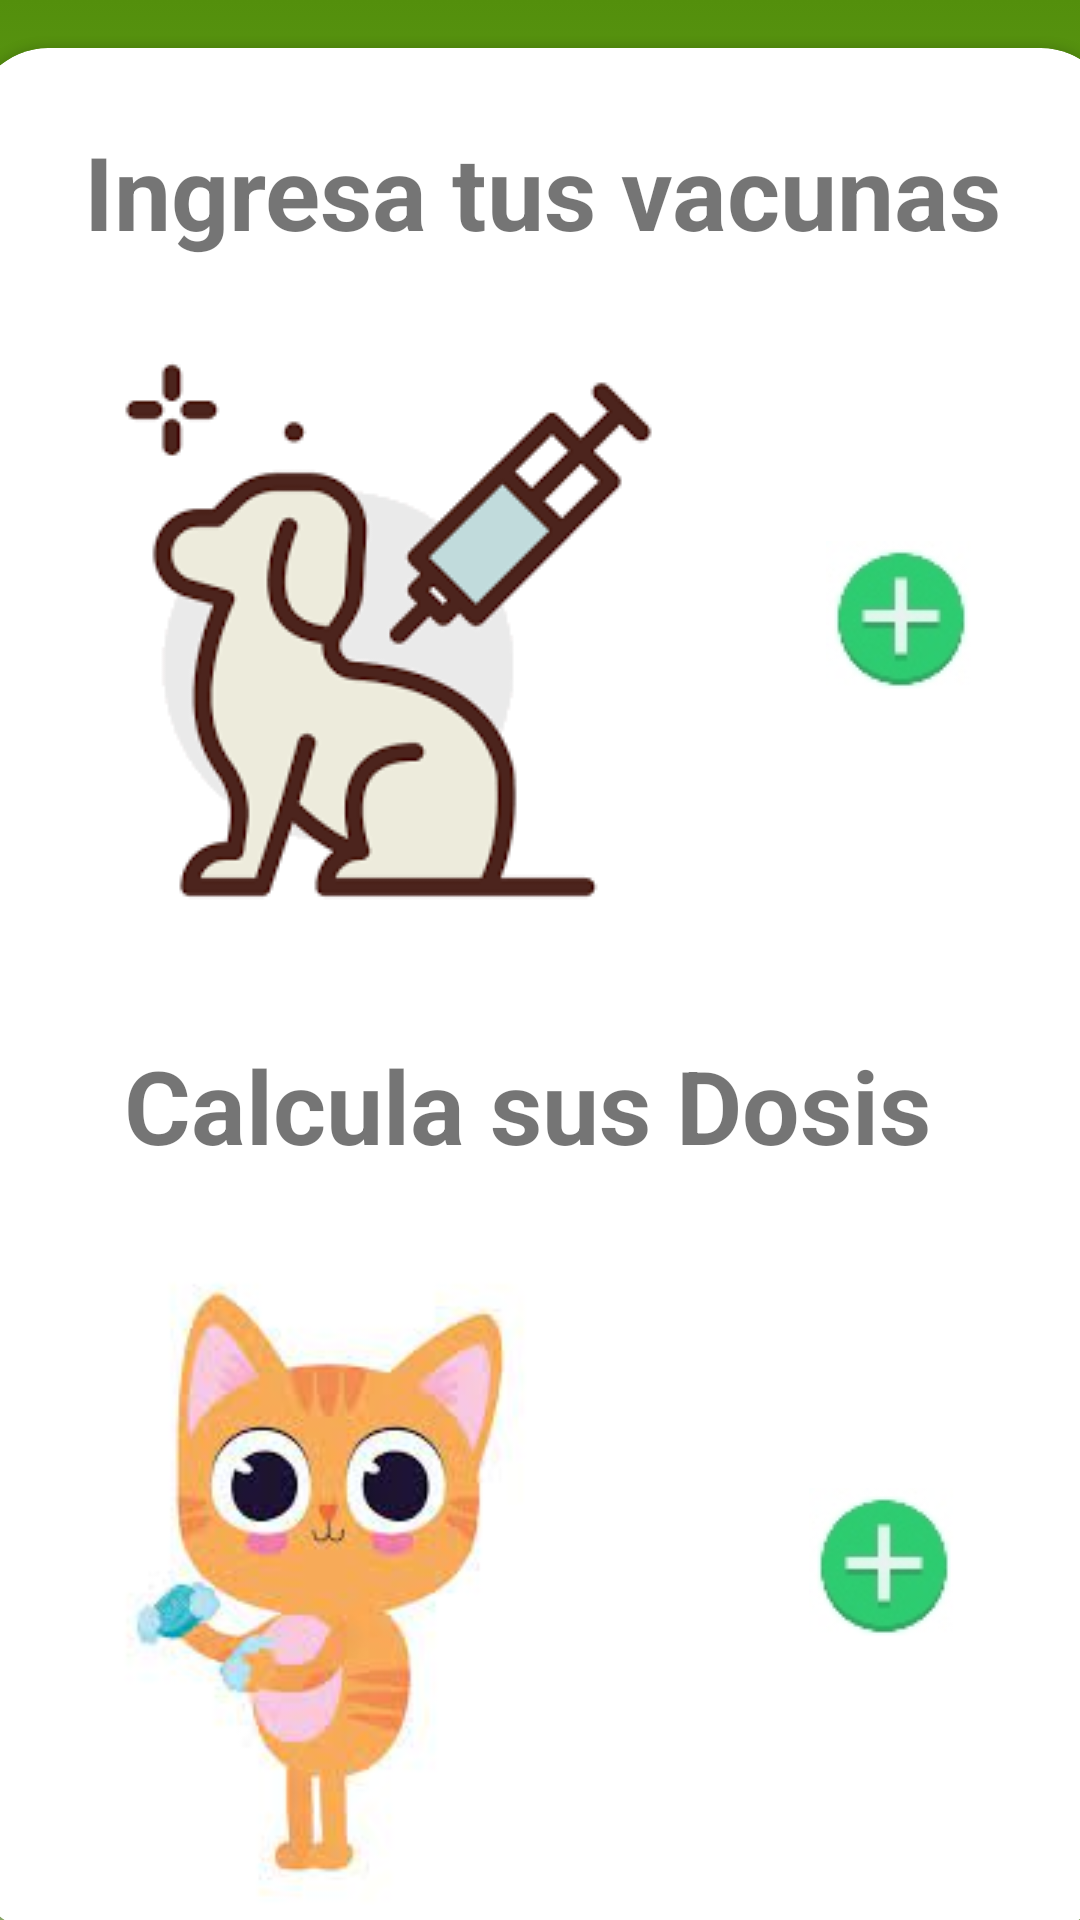

Where to tap for icons on this 1080 x 1920 app screen, as point (x, y):
anadir: point (901, 618), point (884, 1565)
